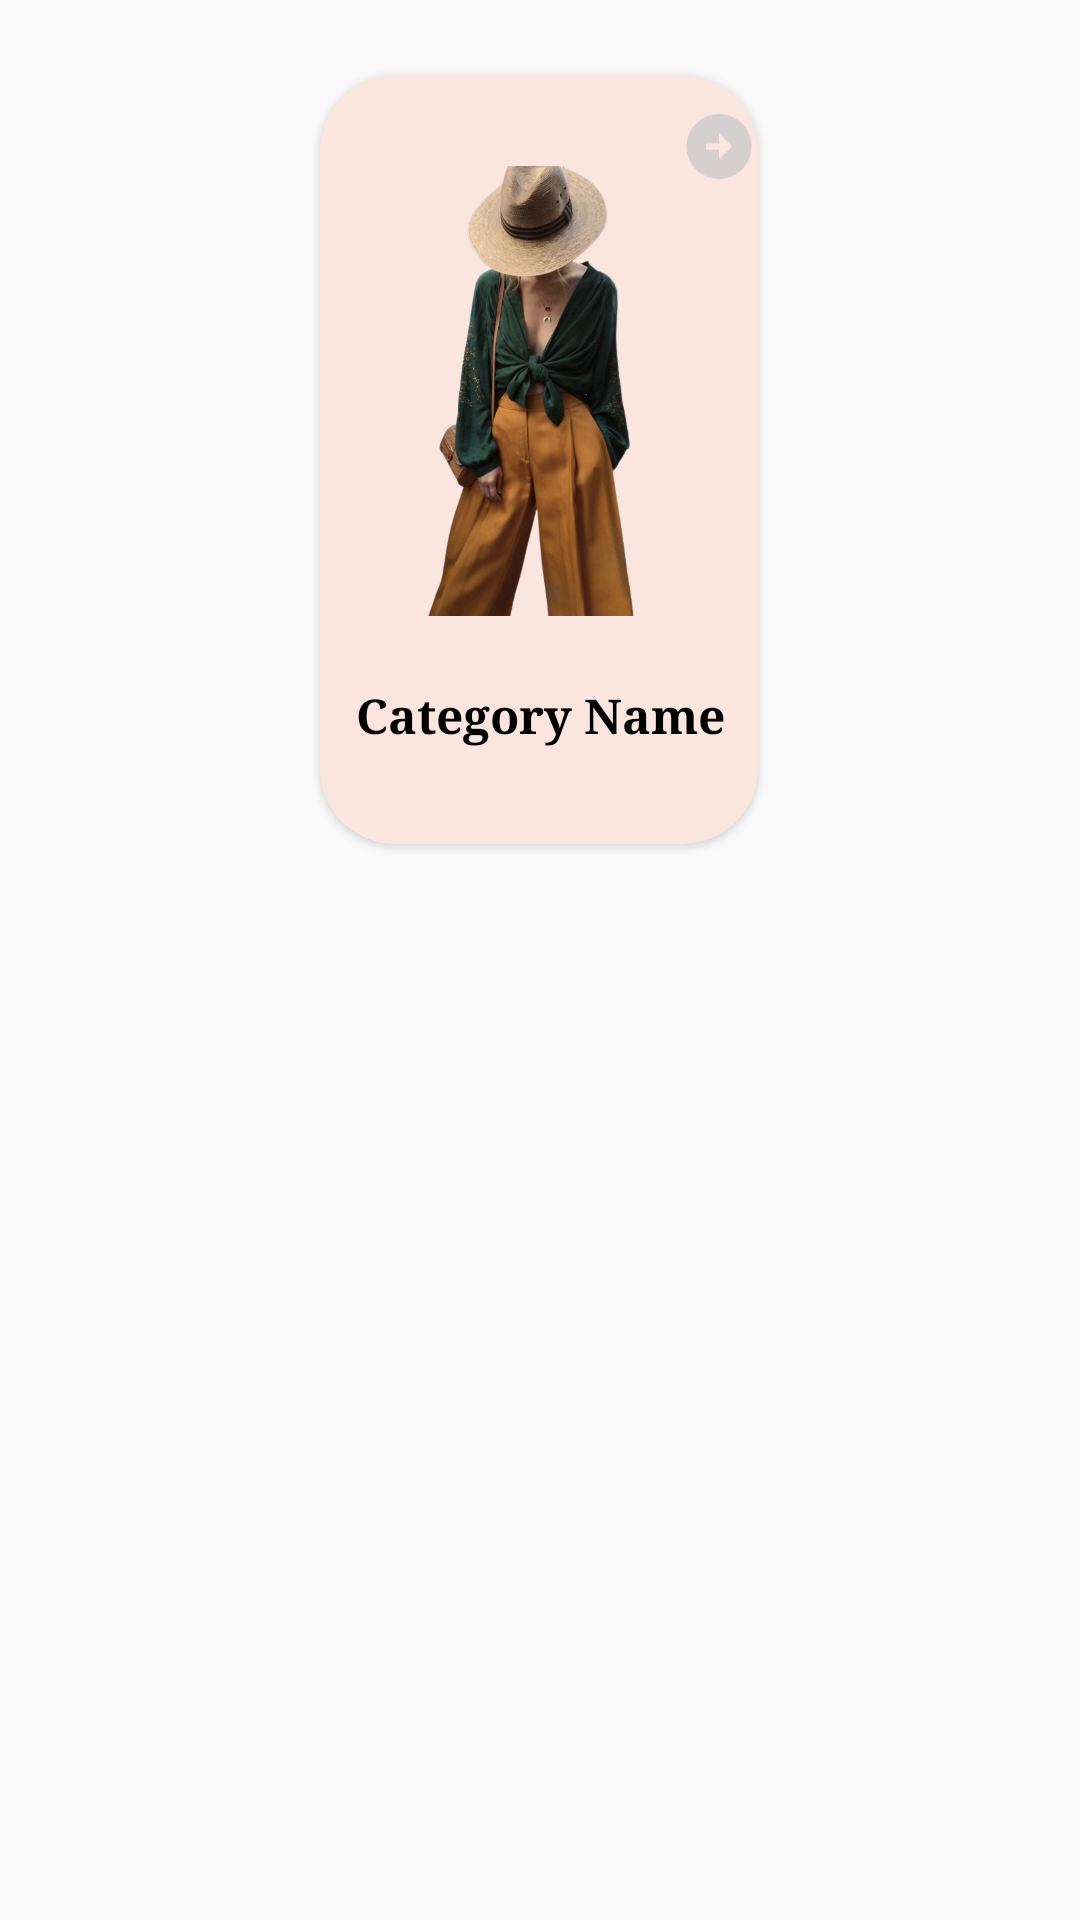

Locate icon controls on the screen. Image size 1080x1920, boxes as (x1, y1, x2, y2).
arrow circle right: (687, 114, 751, 179)
